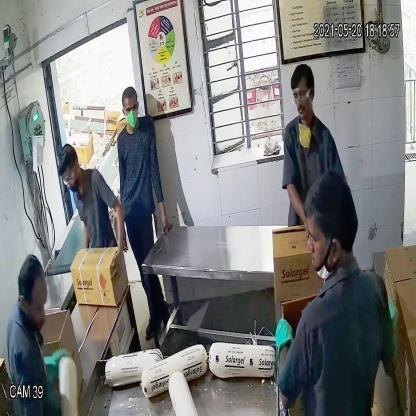goggles: (290, 89, 316, 105)
no_goggles: (121, 103, 140, 115)
